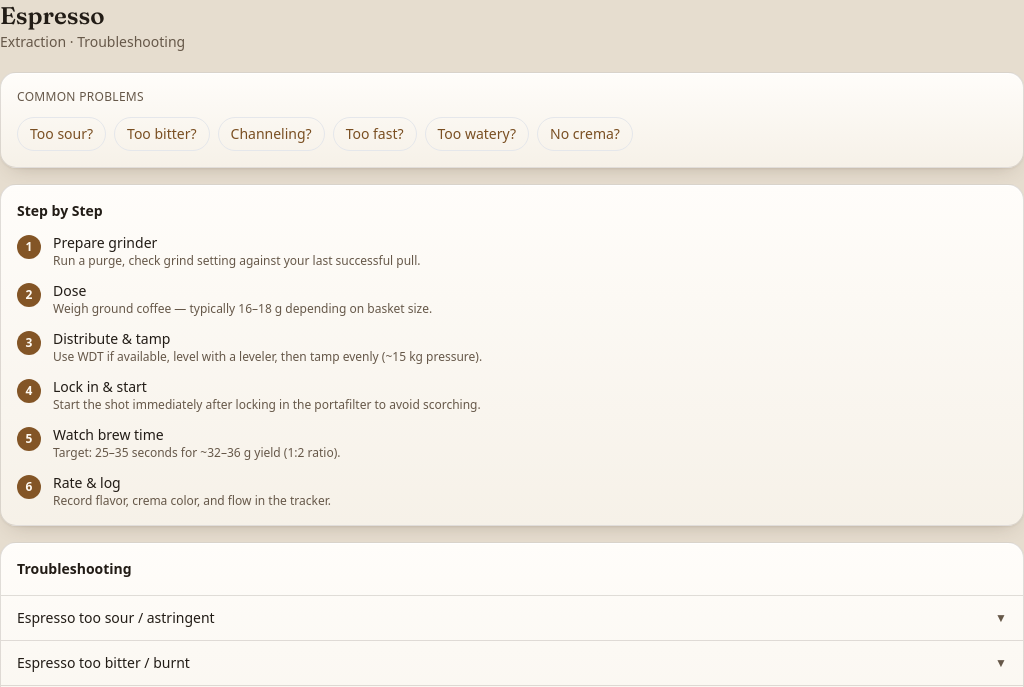
Test case: opens accordion item on click
Click the text "Espresso too sour / astringent".
click(116, 618)  # box [17,608,215,628]
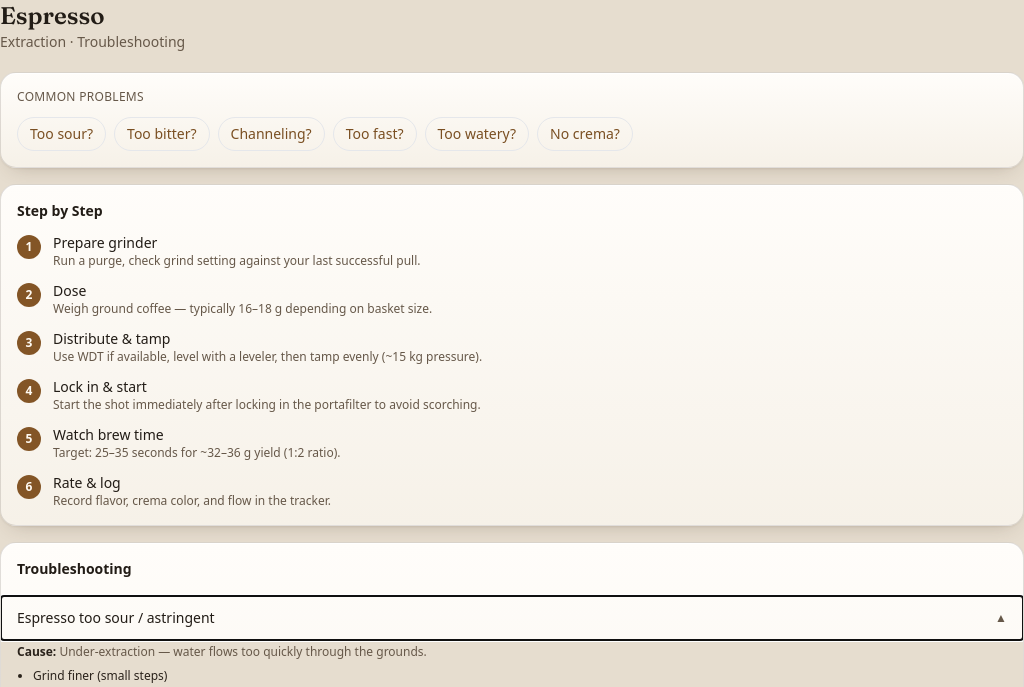
Now the text "Under-extraction" is shown, box [59,643,427,660]
